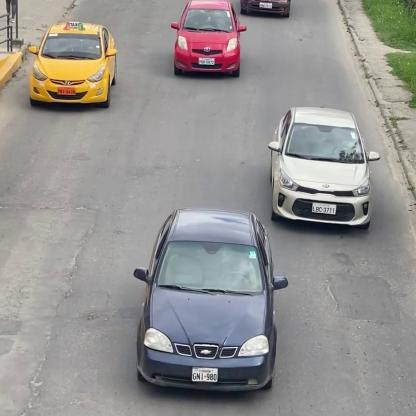Placa: (191, 367, 219, 383), (313, 203, 336, 219), (58, 84, 75, 97), (198, 57, 216, 68)
